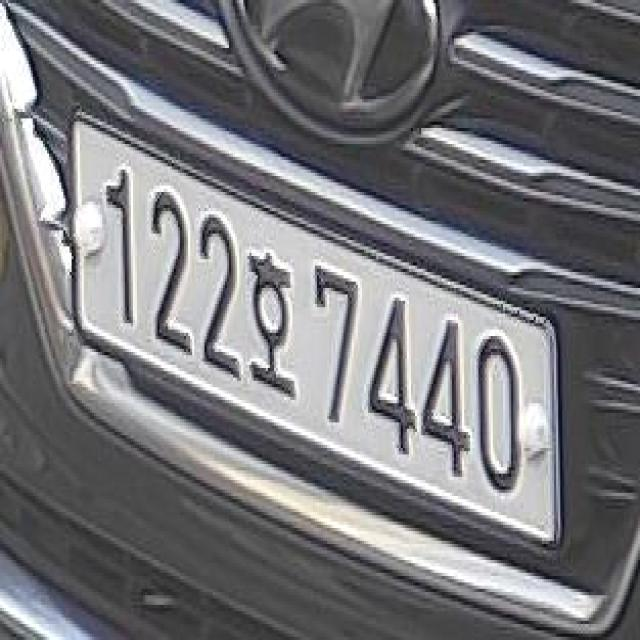illegal_plate: (59, 110, 569, 561)
